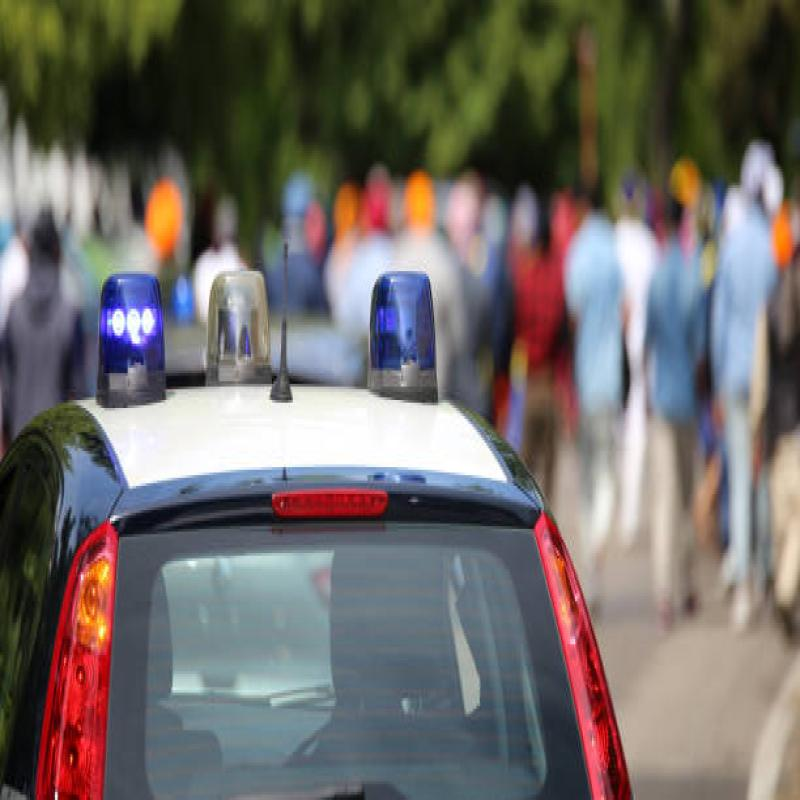AmbulanceSiren: (88, 272, 180, 432), (364, 257, 442, 397)
